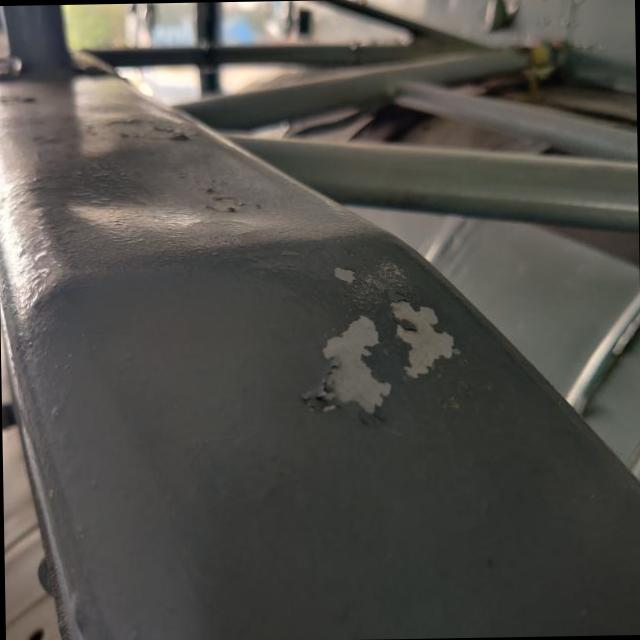Paint-off: (303, 315, 391, 414), (392, 301, 456, 378)
